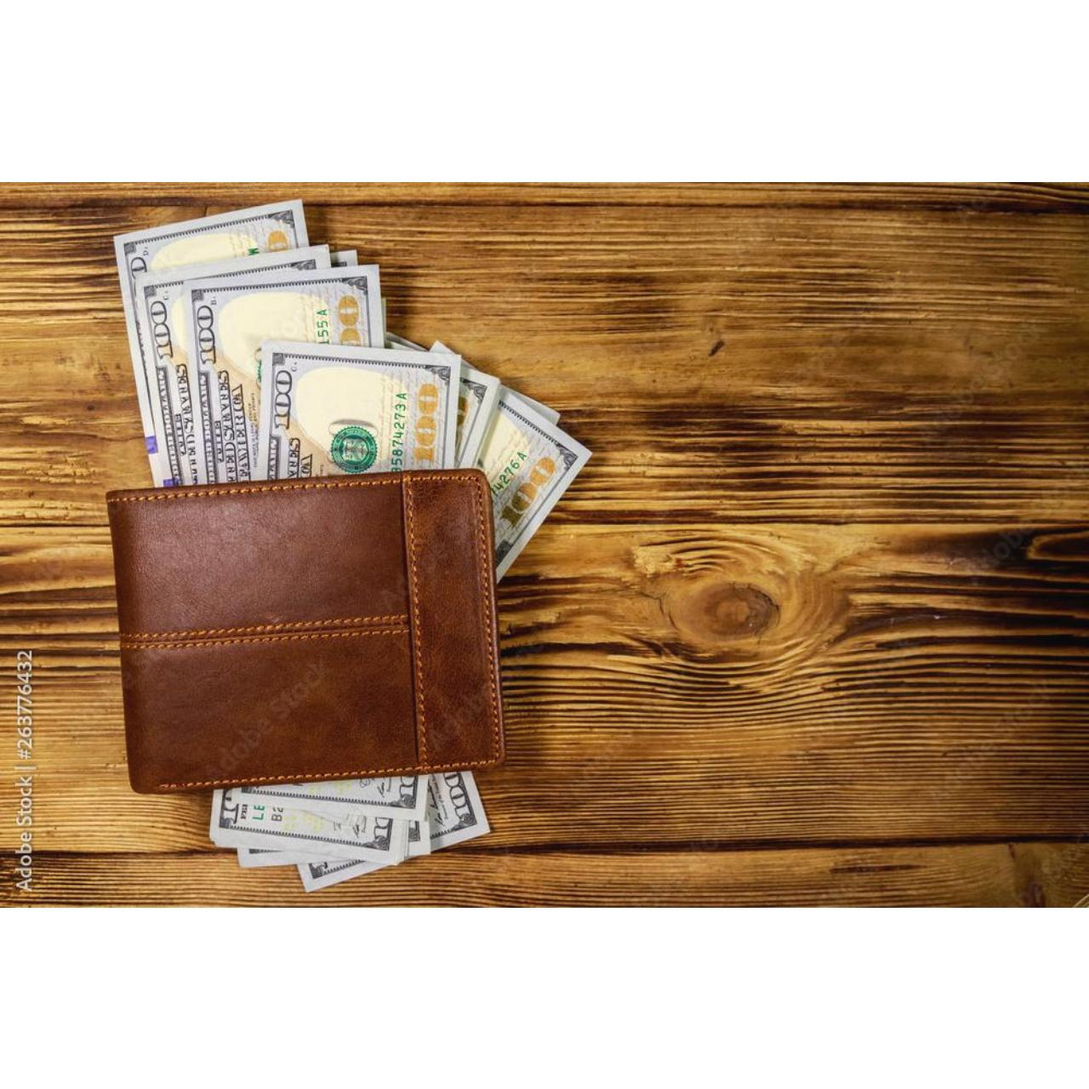wallet: (86, 452, 549, 798)
